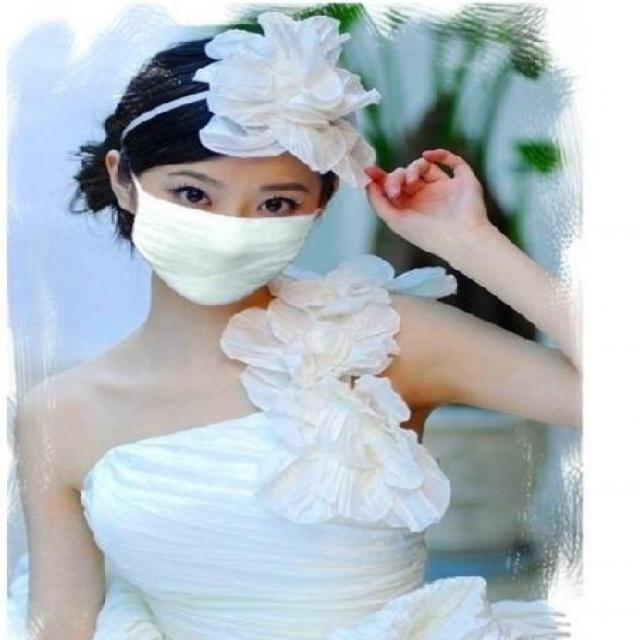mask: (131, 128, 320, 307)
